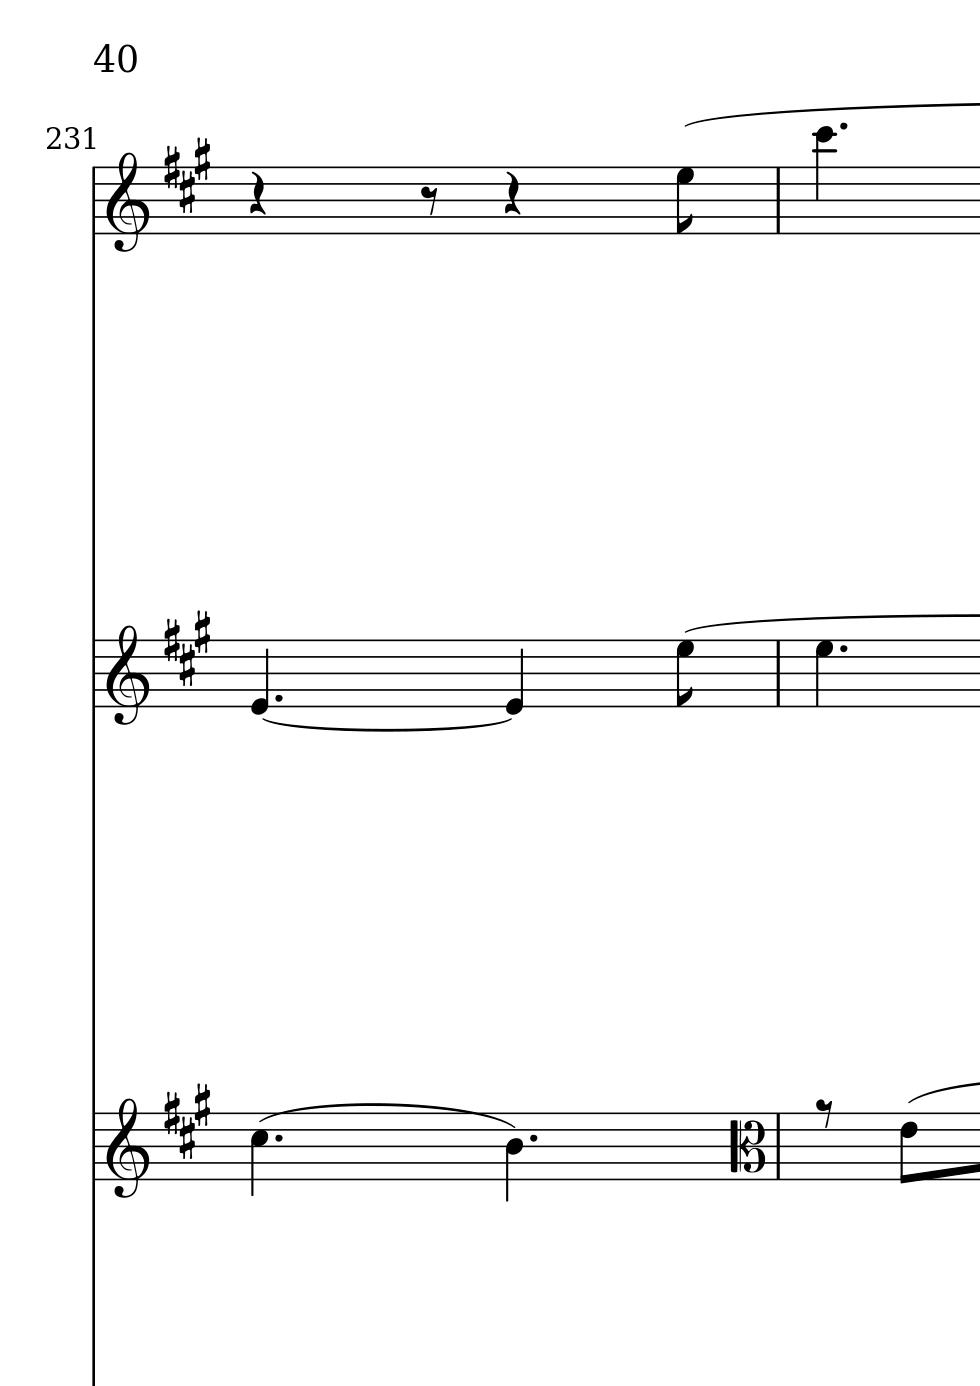0: (117, 41, 139, 75)
1: (83, 125, 97, 153)
2: (43, 125, 63, 153)
3: (63, 126, 80, 153)
4: (93, 41, 113, 75)
4_0: (248, 637, 272, 717), (503, 638, 526, 717)
4_12: (811, 126, 838, 236)
4_4: (503, 1111, 523, 1204)
4_5: (248, 1111, 269, 1198)
4_7: (812, 638, 836, 709)
8_6: (897, 1111, 920, 1187)
8_7: (673, 165, 696, 238), (673, 638, 696, 710)
A_S: (158, 1082, 215, 1162), (160, 608, 214, 688), (161, 136, 213, 214)
Cclef: (727, 1111, 768, 1180)
Gclef: (104, 621, 151, 727), (104, 1094, 150, 1201), (105, 150, 151, 255)
Rests4: (245, 169, 267, 216), (501, 170, 522, 216)
Rests8: (813, 1093, 837, 1129), (418, 183, 441, 217)
Single_barline: (769, 1112, 786, 1180), (770, 168, 786, 233), (770, 641, 786, 705), (86, 166, 101, 235), (86, 1113, 101, 1180), (87, 641, 101, 708)
Slur: (261, 716, 515, 731)
dot: (836, 642, 848, 656), (527, 1131, 540, 1146), (272, 691, 284, 705), (272, 1131, 284, 1145), (837, 120, 848, 133)
